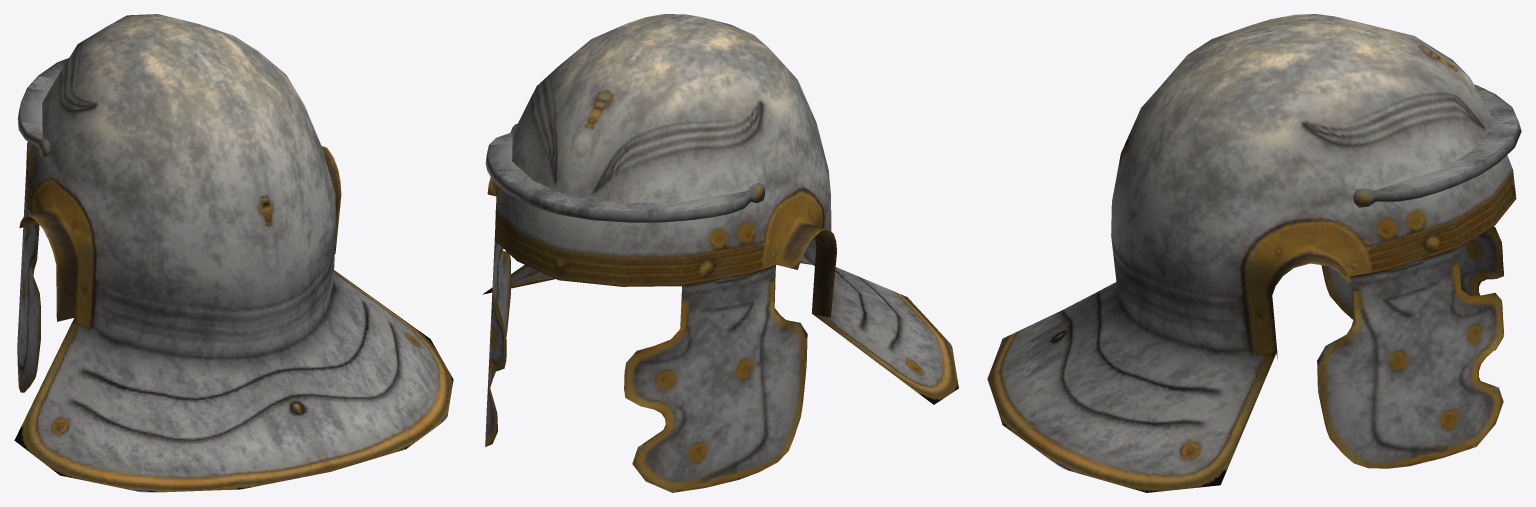
Rendered from helm_rome_gallic_type_h.glb.
3 views of the same model, side by side, from view 1: azimuth 30°, elevation 25°; view 2: azimuth 150°, elevation 25°; view 3: azimuth 270°, elevation 25° (orthographic). The views are drawn at different scales.
Visible parts, largest first — view 1: helm_rome_gallic_type_h_part0; view 2: helm_rome_gallic_type_h_part0; view 3: helm_rome_gallic_type_h_part0.
Boxes of the visible parts, x1=… form: helm_rome_gallic_type_h_part0: x1=14, y1=14, x2=453, y2=492; helm_rome_gallic_type_h_part0: x1=482, y1=14, x2=958, y2=492; helm_rome_gallic_type_h_part0: x1=987, y1=14, x2=1521, y2=492.
Size of the model in its own units: 0.7272 by 0.5851 by 0.7513.
1 material, 1 textured.
